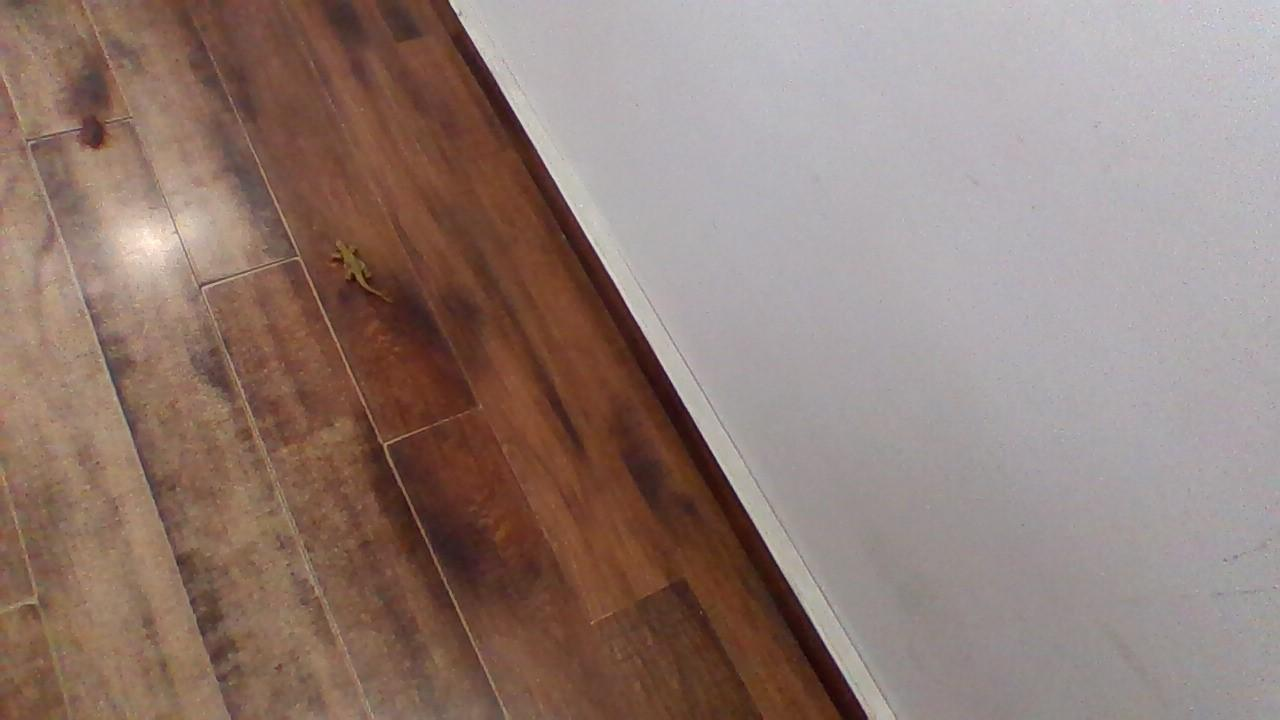cockroach: (65, 103, 127, 175)
lizard: (322, 227, 395, 305)
